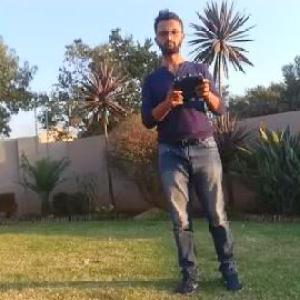follow: (137, 3, 249, 298)
